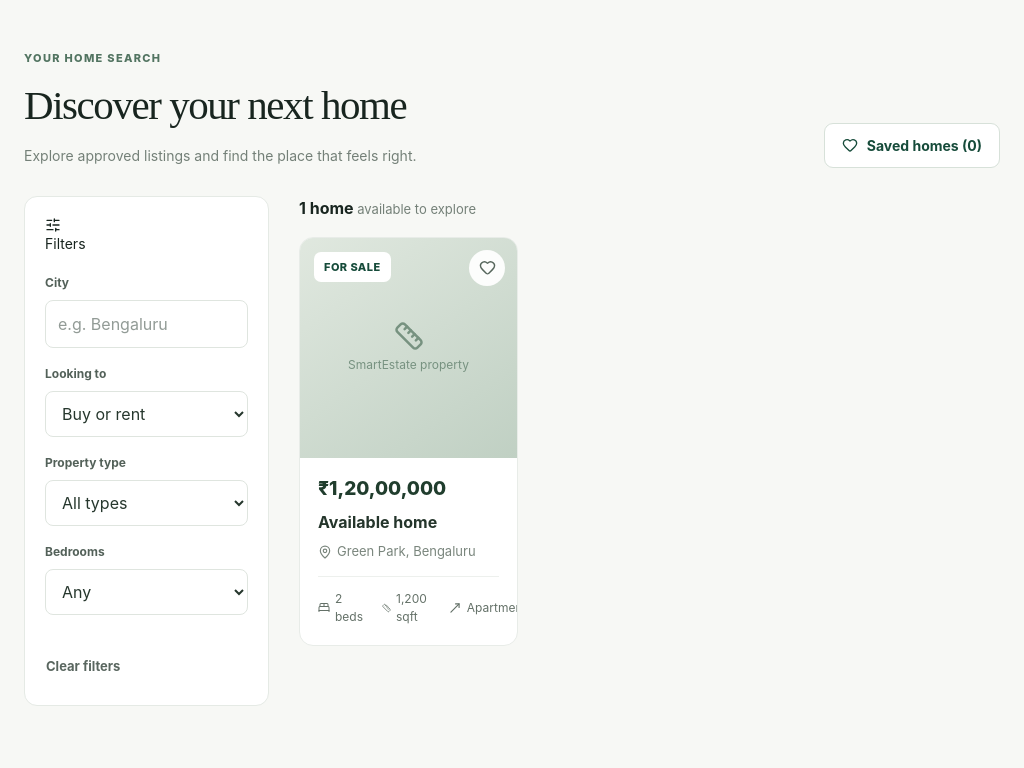
BuyerDashboard favorites › adds and removes favorites through the API and updates the saved homes view
The image size is (1024, 768).
Click the button named "Add to favorites". click: (487, 268)
box: top-left (469, 250), bottom-right (505, 286)
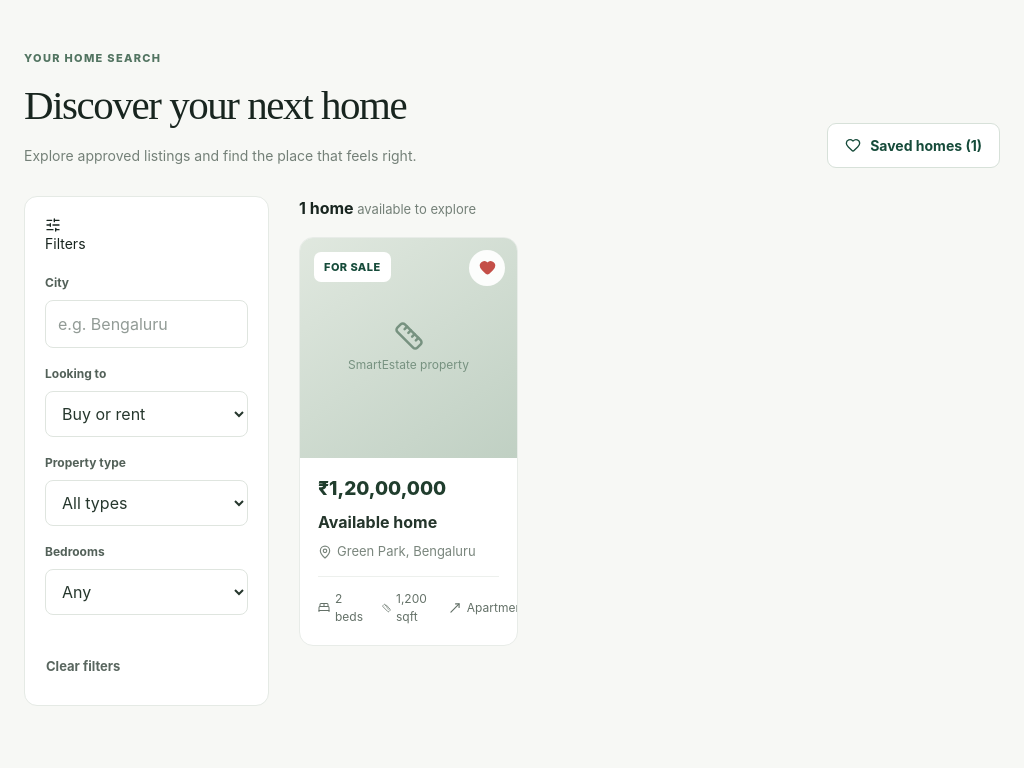
Click the button "Saved homes (1)". click: (914, 145)
box: top-left (827, 122), bottom-right (1000, 168)
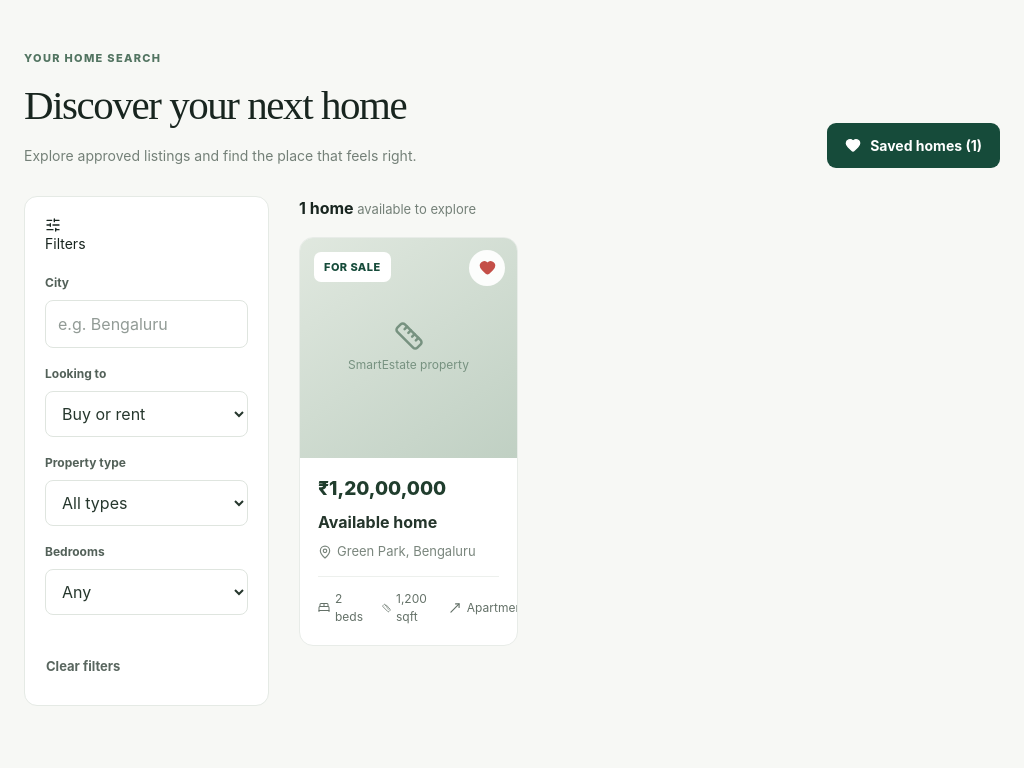
Check: the link "Available home" is shown, box top-left (318, 512), bottom-right (437, 532)
Click the button named "Remove from favorites". click: (487, 268)
box: top-left (469, 250), bottom-right (505, 286)
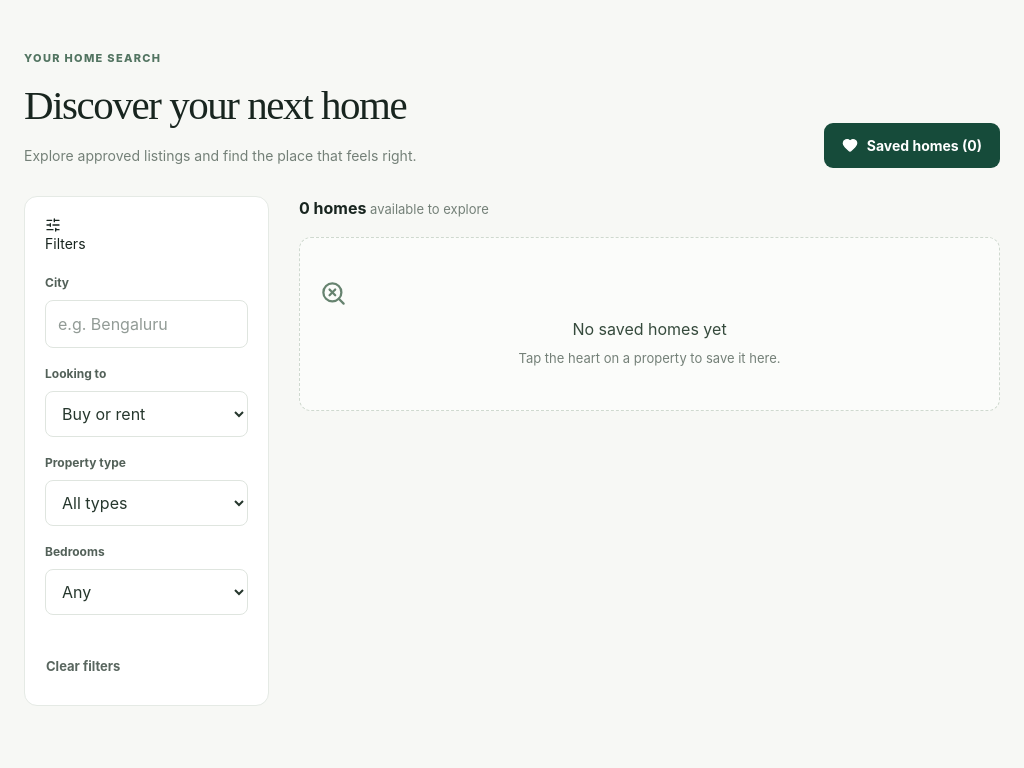
Check: the heading "No saved homes yet" is shown, box top-left (572, 319), bottom-right (727, 339)
